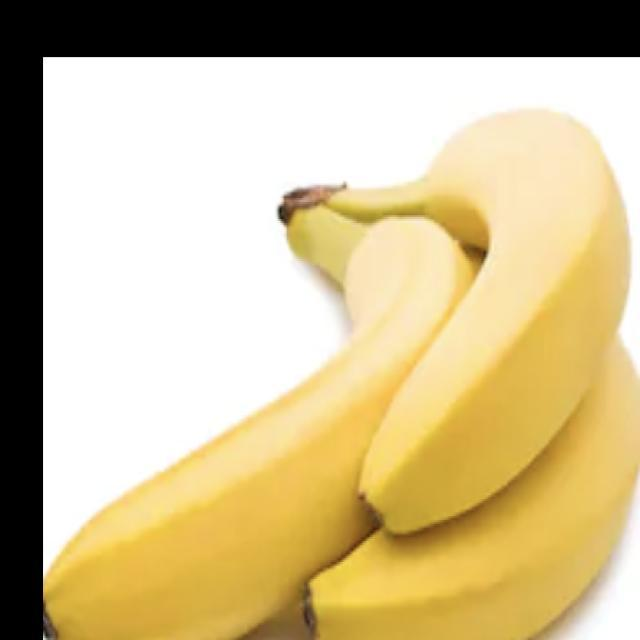Banana: (42, 106, 639, 639)
